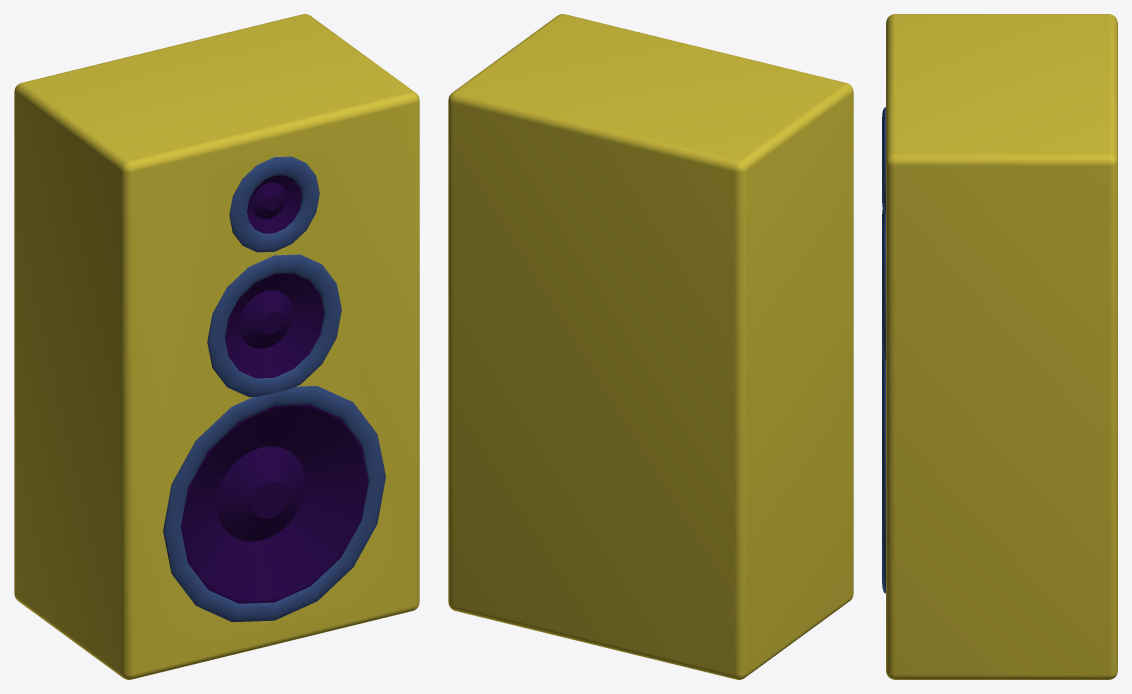
File: speakernew.glb
The picture shows the model from 3 angles, left to right: view 1: azimuth 30°, elevation 25°; view 2: azimuth 150°, elevation 25°; view 3: azimuth 270°, elevation 25°; orthographic projection.
Parts seen in each view (by area): view 1: box, Bass, rims, Mid, Treb; view 2: box; view 3: box, rims.
Part boxes in pixels (x1=…): box: x1=14, y1=14, x2=419, y2=679; Bass: x1=180, y1=404, x2=368, y2=603; rims: x1=163, y1=156, x2=385, y2=622; Mid: x1=225, y1=273, x2=323, y2=378; Treb: x1=247, y1=175, x2=301, y2=233; box: x1=448, y1=14, x2=853, y2=679; box: x1=886, y1=14, x2=1117, y2=679; rims: x1=882, y1=107, x2=885, y2=593.
Size of the model in its own units: 3 by 5 by 2.03.
